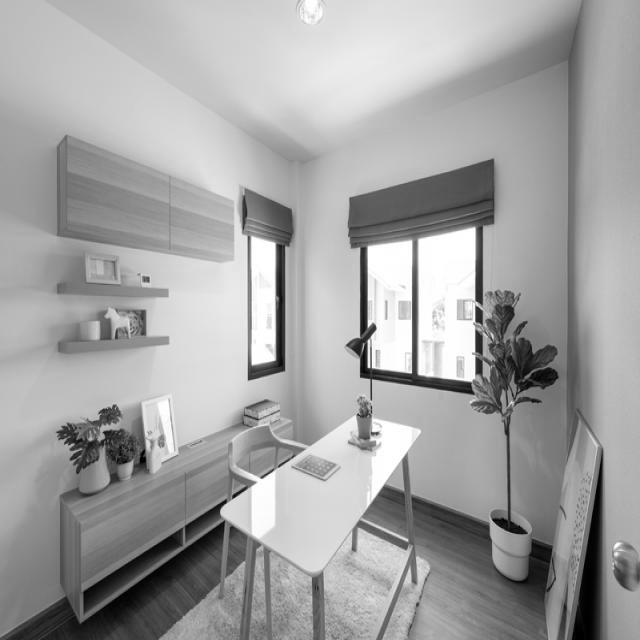table: (211, 394, 421, 630)
